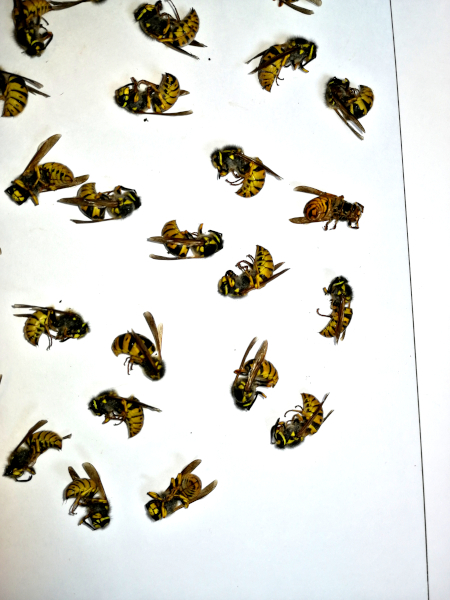chax: (207, 334, 287, 414), (6, 134, 92, 204), (125, 1, 216, 65), (11, 294, 97, 361), (245, 28, 325, 100), (205, 138, 287, 204), (266, 388, 339, 461), (81, 384, 171, 443), (102, 308, 174, 381), (143, 458, 218, 526), (110, 70, 203, 124), (313, 72, 386, 140), (284, 181, 371, 235), (217, 244, 294, 305), (2, 419, 77, 481), (145, 213, 236, 264), (57, 459, 116, 537), (308, 270, 365, 348), (10, 1, 72, 63), (66, 179, 149, 223), (1, 62, 53, 119)
